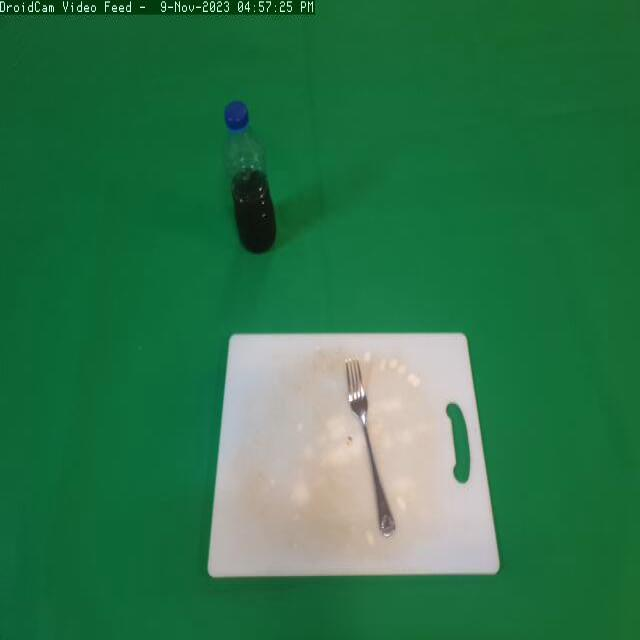cutting board: (201, 306, 516, 594)
fork: (334, 344, 404, 545)
fullbottle: (213, 83, 285, 259)
